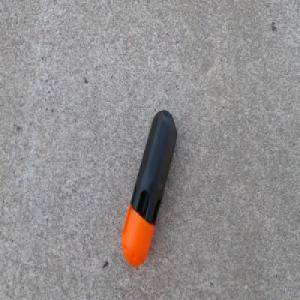PlasticPart: (120, 108, 177, 268)
